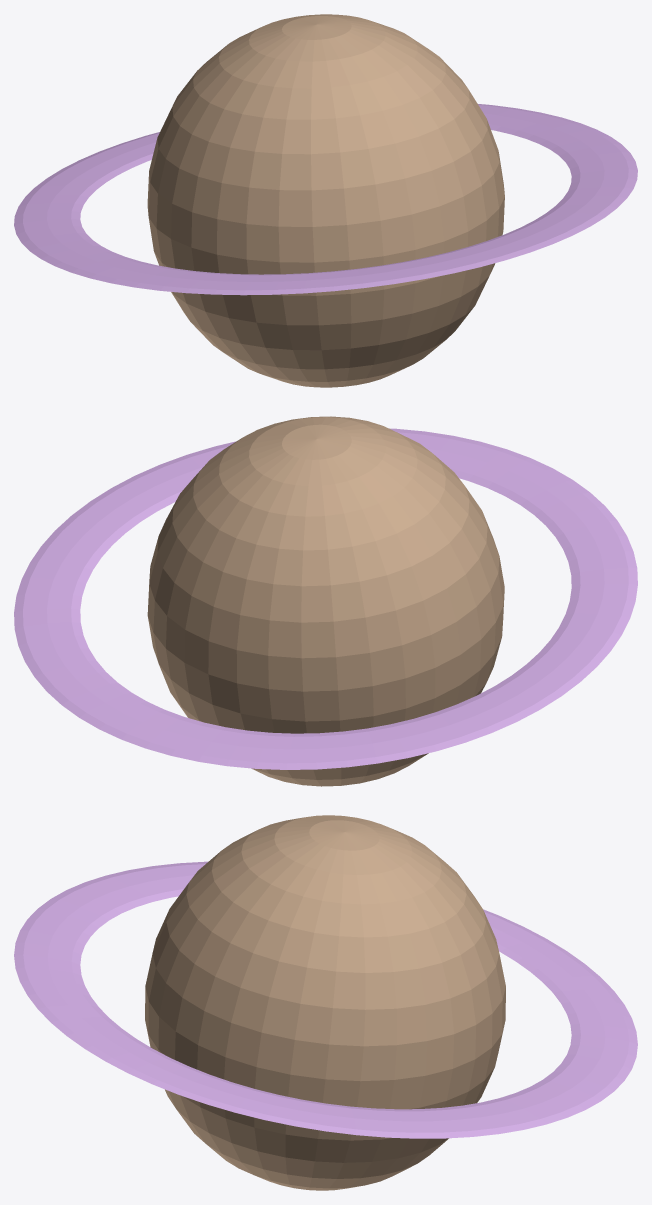
The model's file is planeet.fbx.
The picture shows the model from 3 angles, top to bottom: view 1: azimuth 30°, elevation 25°; view 2: azimuth 150°, elevation 25°; view 3: azimuth 270°, elevation 25°; orthographic projection.
Visible parts, largest first — view 1: Sphere, Circle; view 2: Sphere, Circle; view 3: Sphere, Circle.
Part boxes in pixels (<box>): Sphere: <box>147,14,504,387</box>; Circle: <box>14,104,637,295</box>; Sphere: <box>147,416,504,786</box>; Circle: <box>14,428,637,769</box>; Sphere: <box>145,815,505,1190</box>; Circle: <box>14,861,637,1138</box>.
Size of the model in its own units: 614 by 366 by 606.
